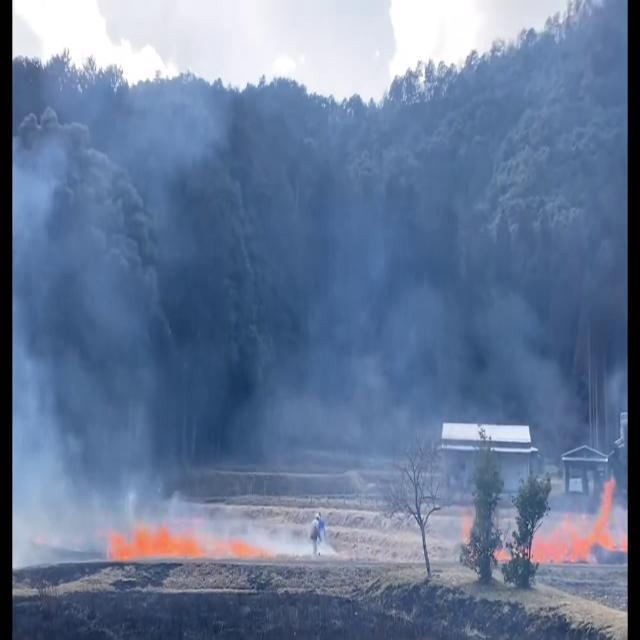Fire: (96, 514, 211, 568)
Smoke: (279, 30, 618, 548), (17, 90, 276, 538)
